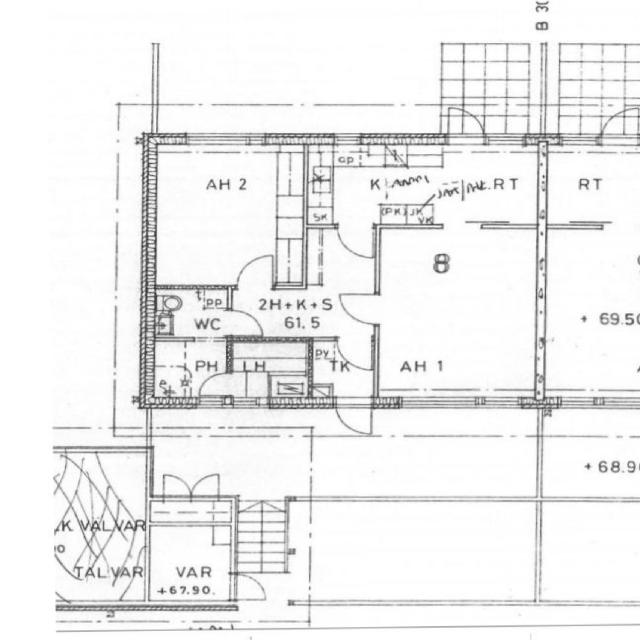door: (154, 470, 226, 500), (441, 105, 488, 149), (232, 251, 278, 292), (330, 397, 376, 437), (334, 290, 382, 326), (333, 335, 378, 372), (335, 223, 377, 260), (596, 110, 638, 147), (228, 571, 272, 603), (224, 308, 265, 338), (197, 371, 234, 397)
window: (391, 392, 522, 413), (179, 130, 266, 150), (539, 492, 640, 506), (553, 130, 601, 152), (483, 132, 529, 151)
zone: (373, 223, 543, 404), (147, 140, 306, 287), (307, 149, 545, 227), (542, 145, 637, 227), (145, 523, 235, 609), (230, 338, 310, 408), (146, 337, 229, 404), (148, 285, 233, 341)
